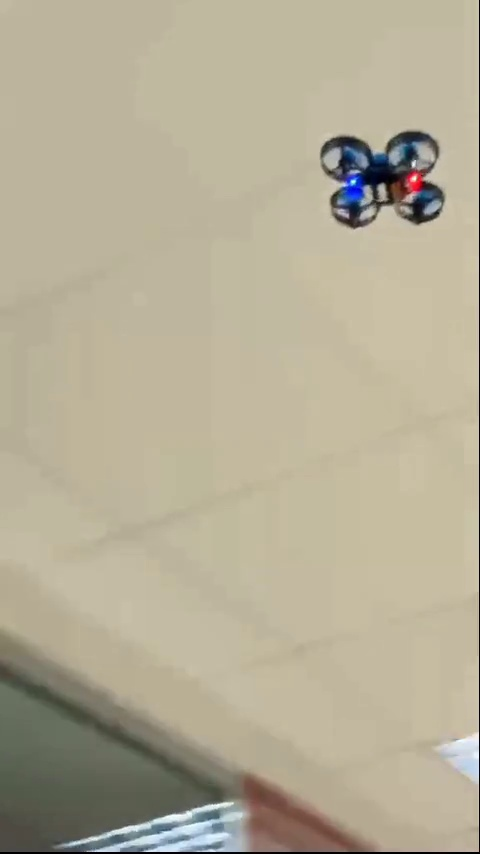drone: (319, 127, 444, 231)
